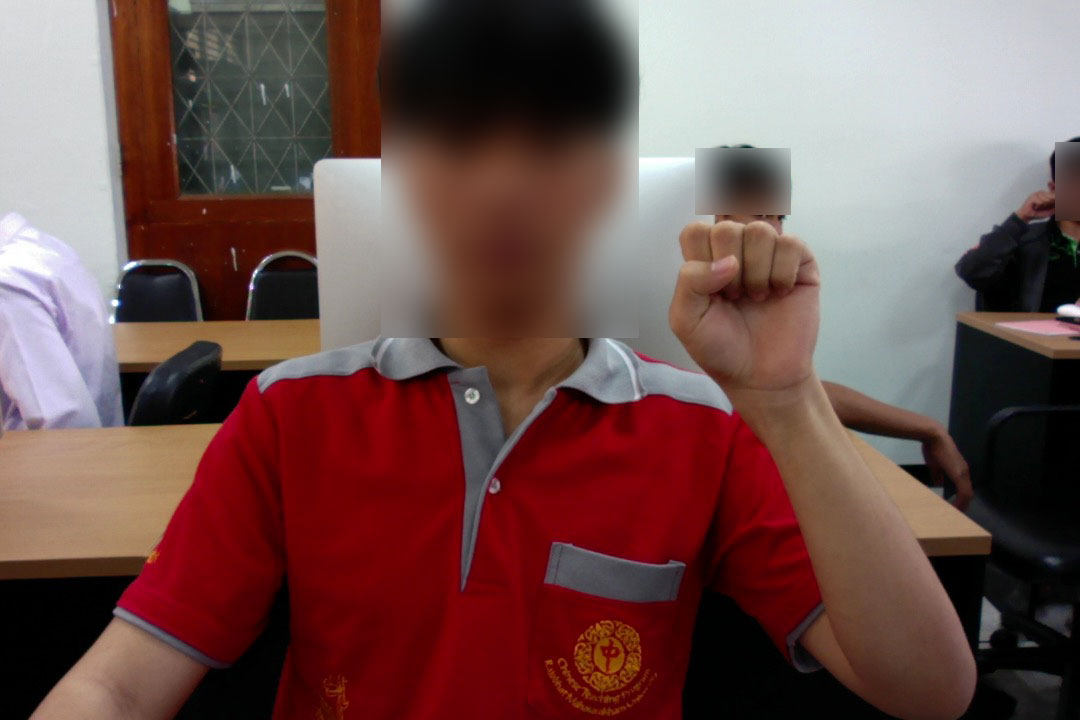sor: (659, 212, 829, 421)
